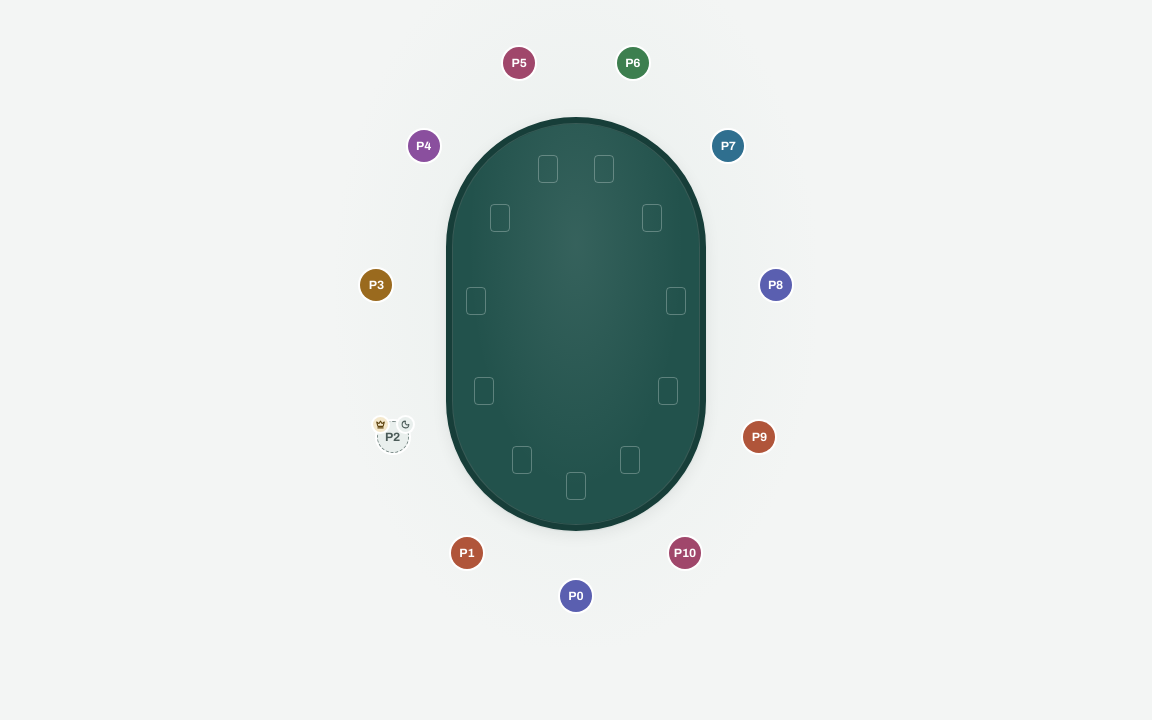
Test: presence, the PO and the viewer (#17) › puts the PO and away in the popover of a seat that shows initials only
The width and height of the screenshot is (1152, 720).
What coordinates should you click on to do the following:
click the button named "Person 2, product owner, away, thinking"
I would click on:
 (393, 437)
Its box is x1=371 y1=415 x2=415 y2=459.
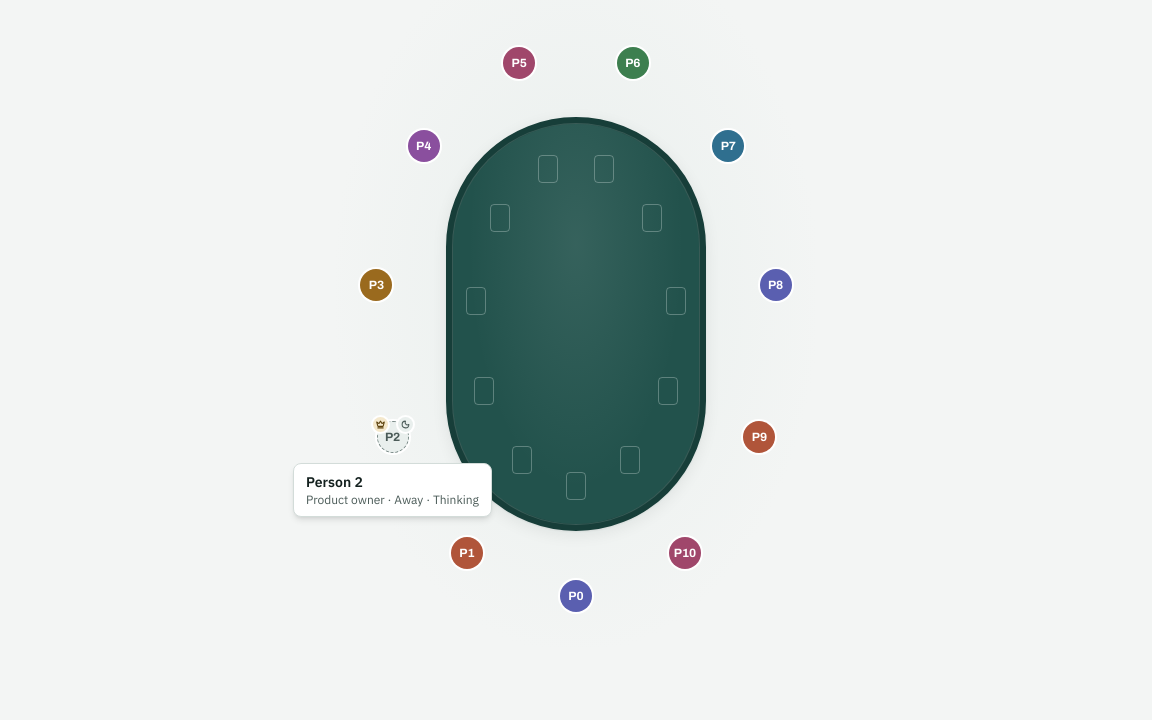
Now the dialog reads "Person 2 Product owner · Away · Thinking", box x1=293 y1=463 x2=492 y2=517
